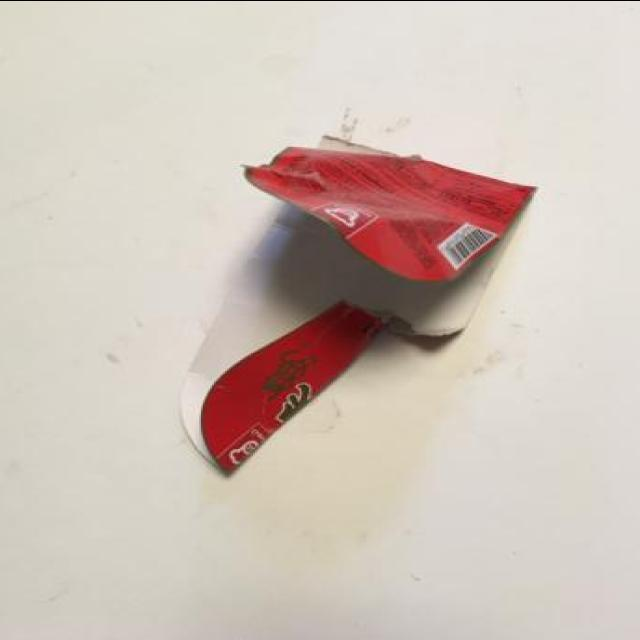kertas: (177, 133, 539, 477)
